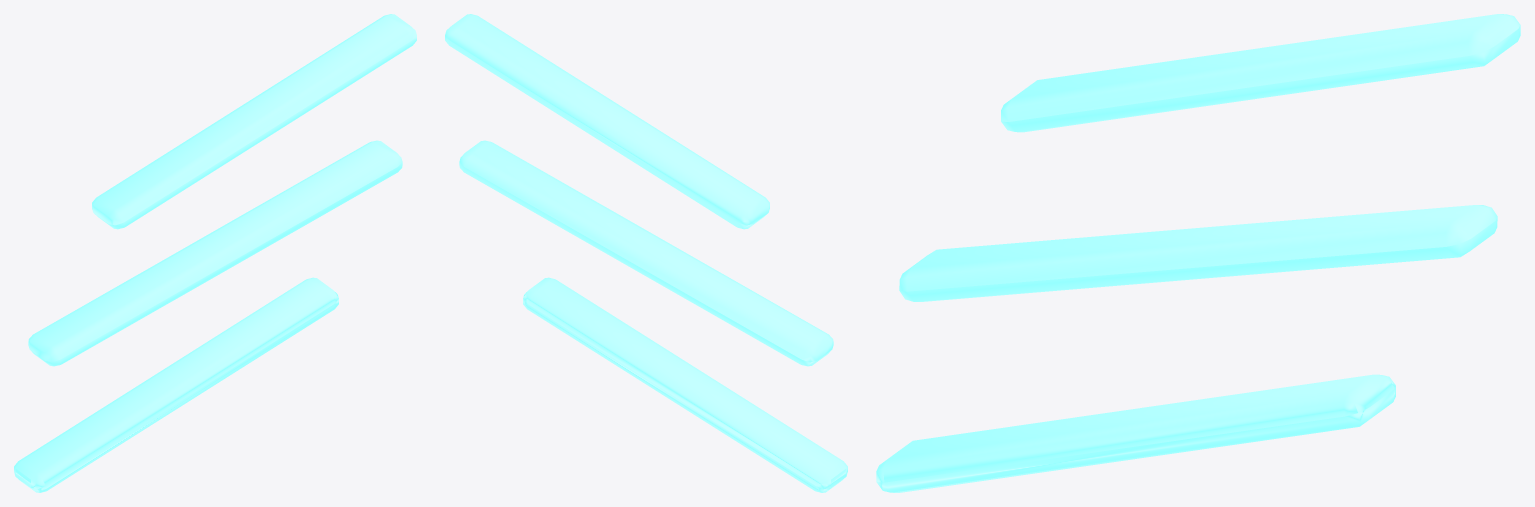
The model's file is Estela_Emblema_Neon.fbx.
3 renders of one model, left to right at view 1: azimuth 30°, elevation 25°; view 2: azimuth 150°, elevation 25°; view 3: azimuth 330°, elevation 25°, orthographic. The views are drawn at different scales.
Visible parts, largest first — view 1: Estela_Emblema_Neon; view 2: Estela_Emblema_Neon; view 3: Estela_Emblema_Neon.
Part boxes in pixels (box(x1,y1,x2,y2)): Estela_Emblema_Neon: box(14, 14, 416, 492); Estela_Emblema_Neon: box(445, 14, 847, 492); Estela_Emblema_Neon: box(876, 14, 1520, 492).
Size of the model in its own units: 0.5757 by 0.5375 by 0.07.
